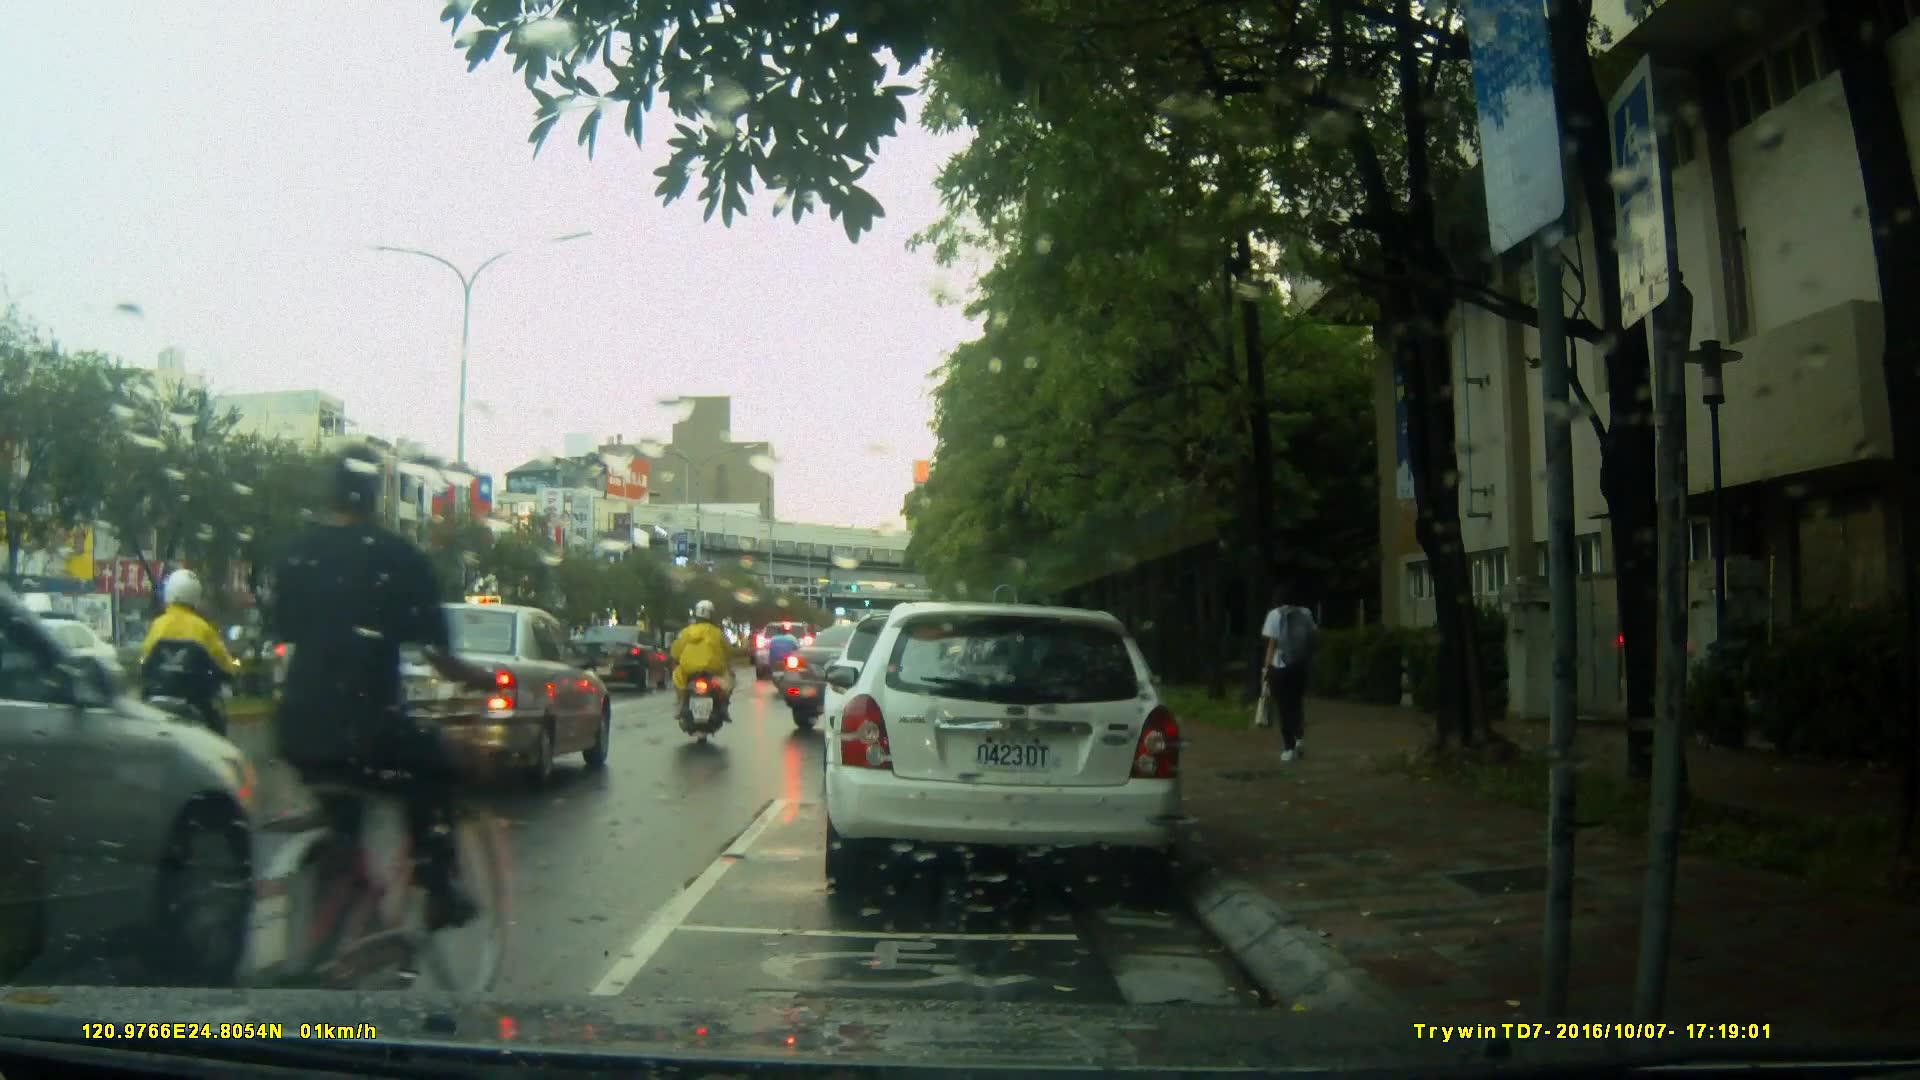pedestrian: (1262, 573, 1328, 766)
rider: (206, 436, 511, 1031), (140, 577, 260, 827), (672, 594, 736, 754), (663, 612, 701, 705), (771, 620, 798, 703)
vehicle: (1, 546, 305, 988), (820, 602, 1188, 898), (331, 600, 622, 786), (268, 594, 478, 733), (773, 621, 997, 734), (570, 624, 675, 693)
